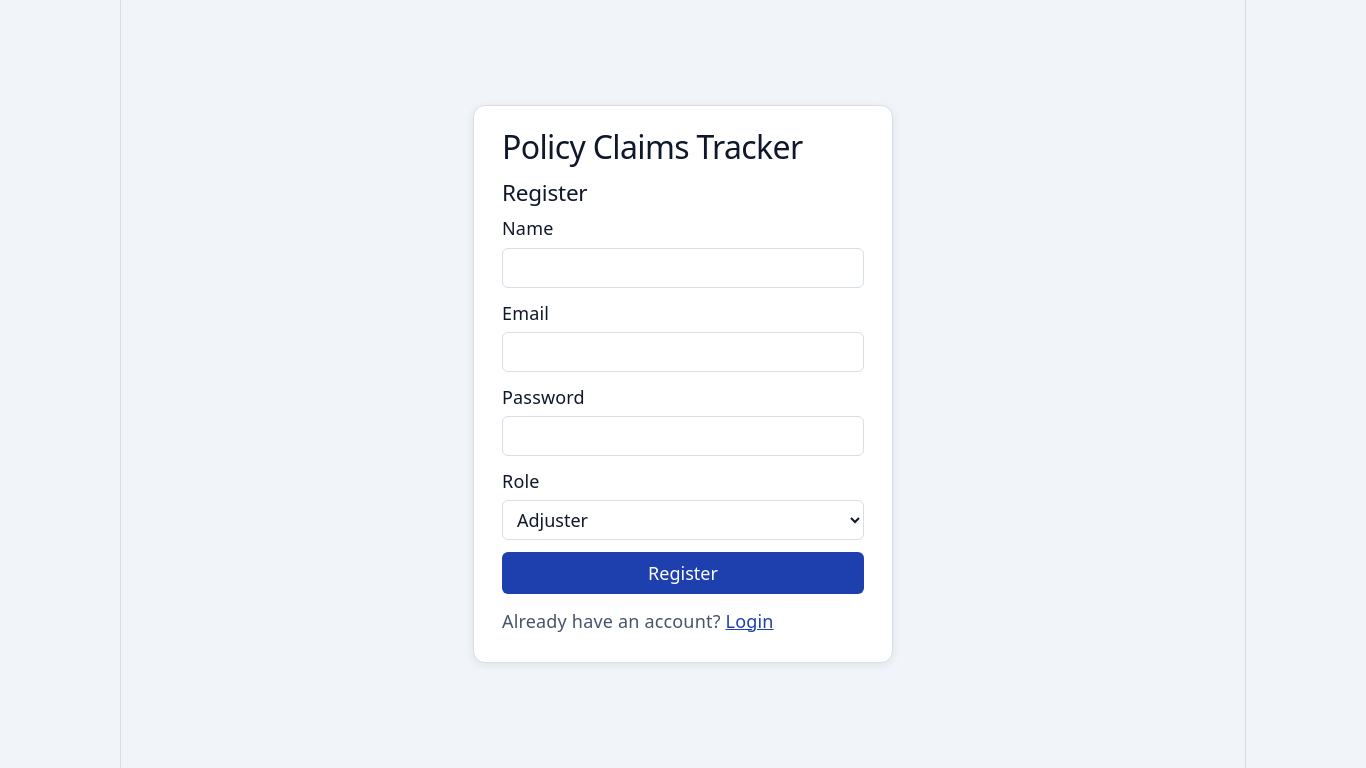
RegisterPage role selector › shows validation error when name includes numbers or special characters
Step 1. Type "John1!" into the field labelled "Name" → (683, 268), box left=502, top=248, right=864, bottom=288
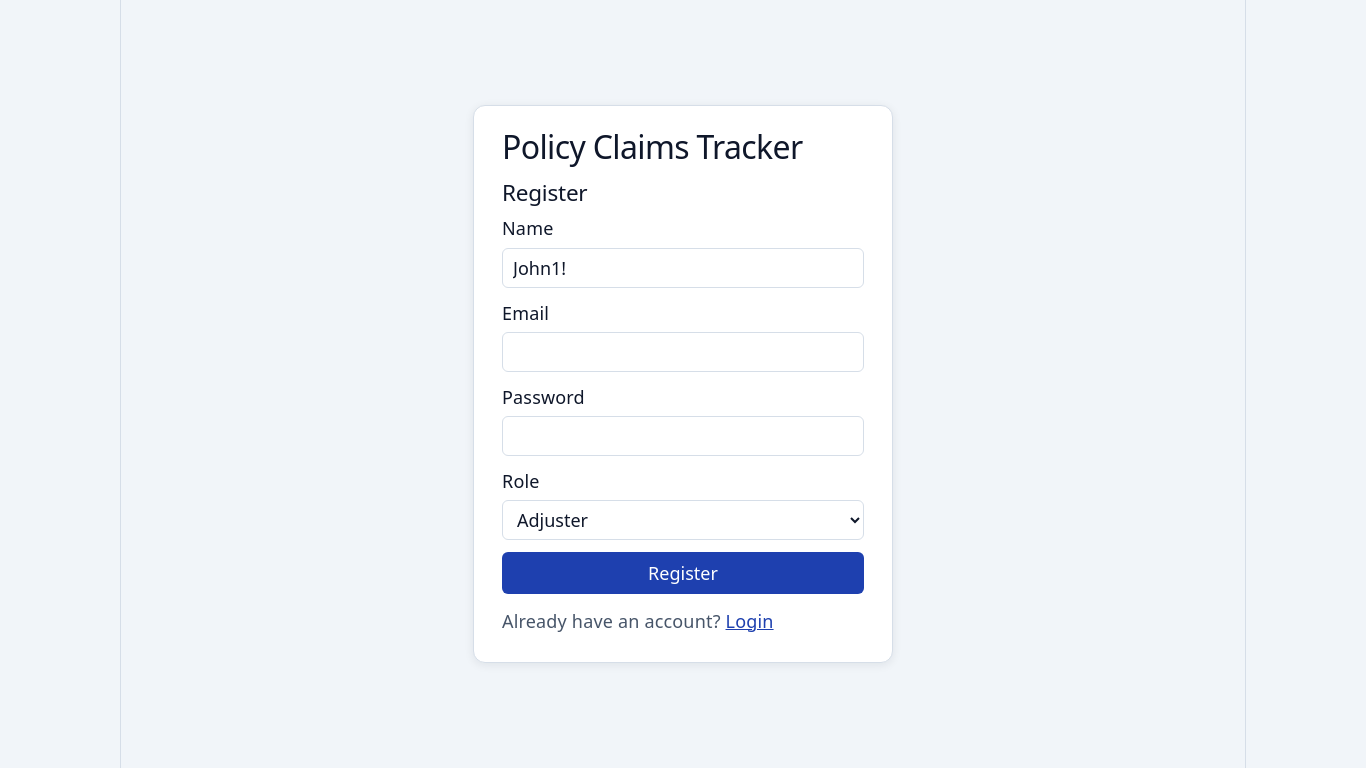
Step 2. Type "john@example.com" into the field labelled "Email" → (683, 352), box left=502, top=332, right=864, bottom=372
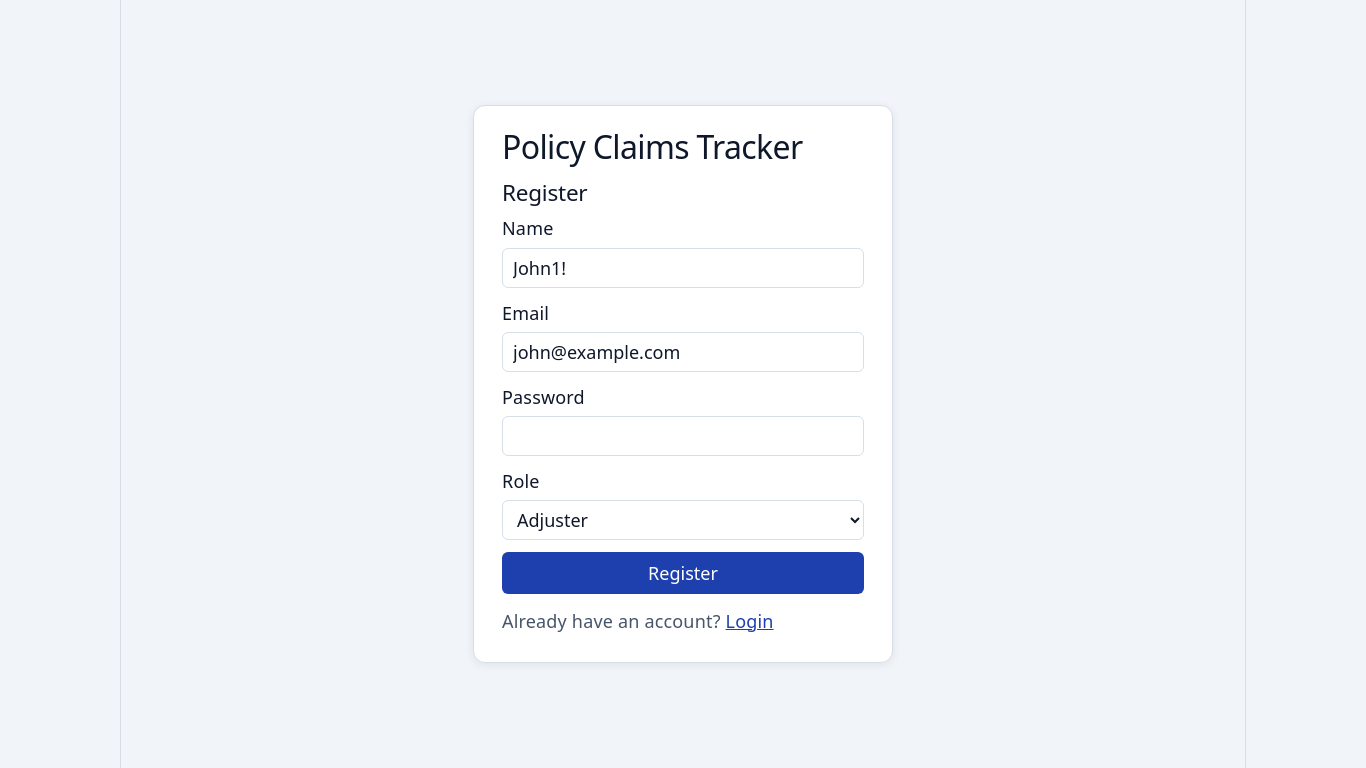
Step 3. Type "Password123!" into the password field labelled "Password" → (683, 436), box left=502, top=416, right=864, bottom=456
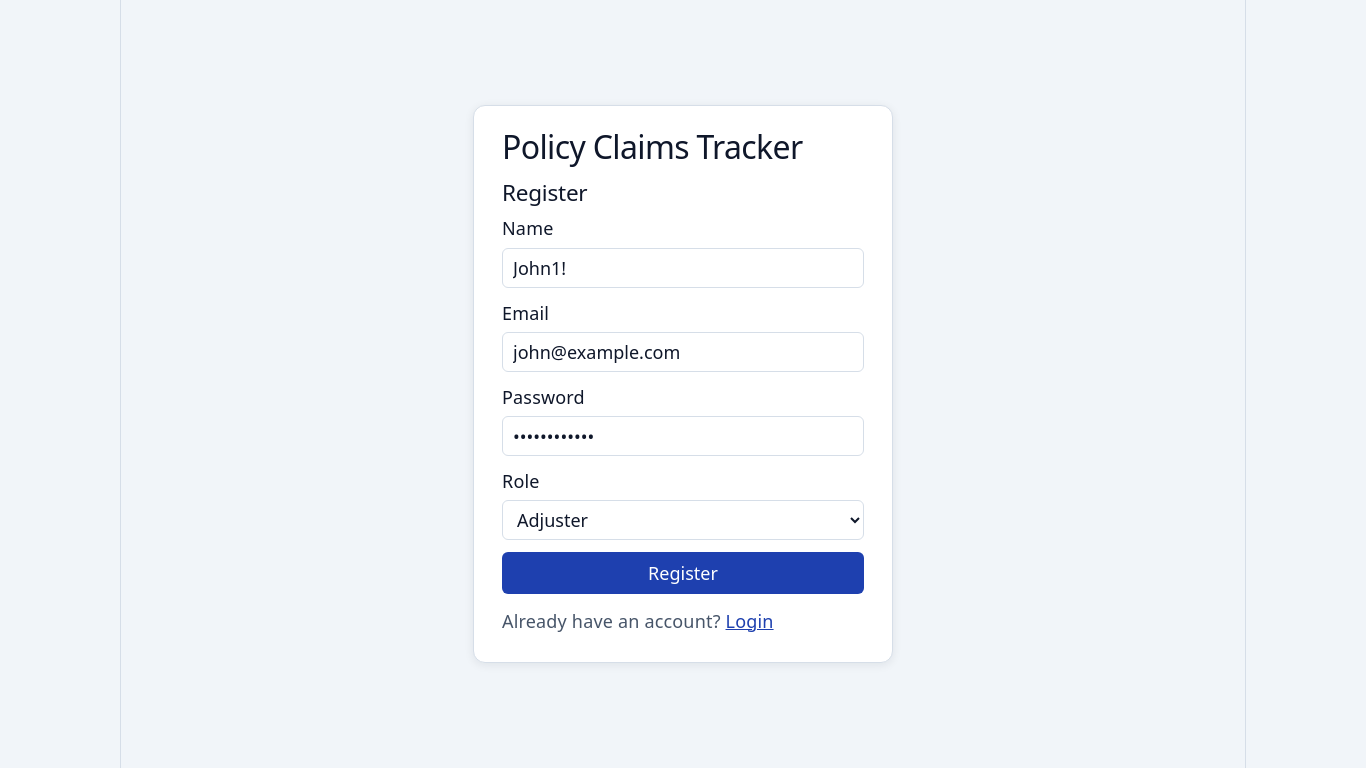
Step 4. Submit the form from the button "Register", box left=502, top=552, right=864, bottom=594
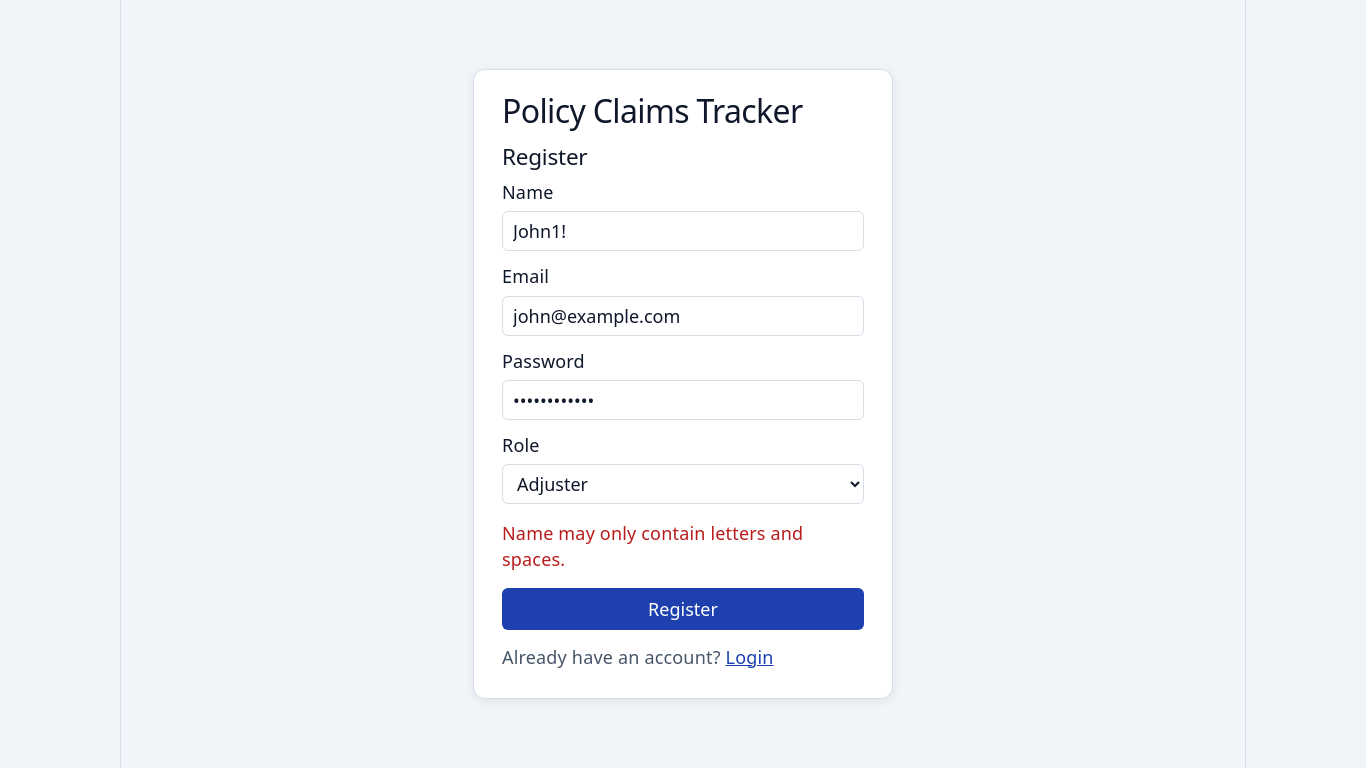
expect the text "Name may only contain letters and spaces." is shown: met, box left=502, top=521, right=803, bottom=571
